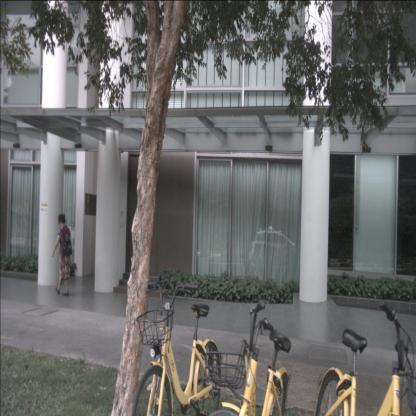human-pedestrian-adult: (52, 213, 72, 296)
vehicle-bicycle: (131, 281, 221, 416), (315, 299, 415, 415), (205, 299, 292, 416)
vehicle-car: (249, 226, 300, 266)
